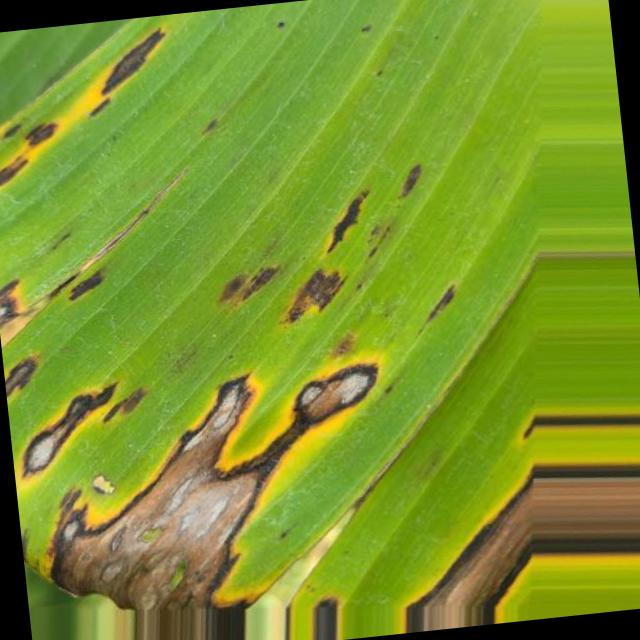Banana_Black_Sigatoka: (0, 25, 206, 384), (19, 377, 330, 608), (229, 188, 474, 458)
